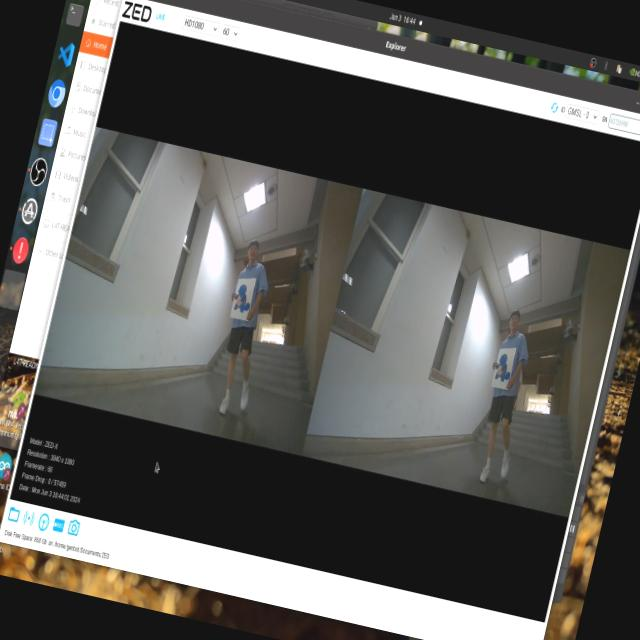blue: (222, 284, 255, 328), (486, 352, 516, 395)
